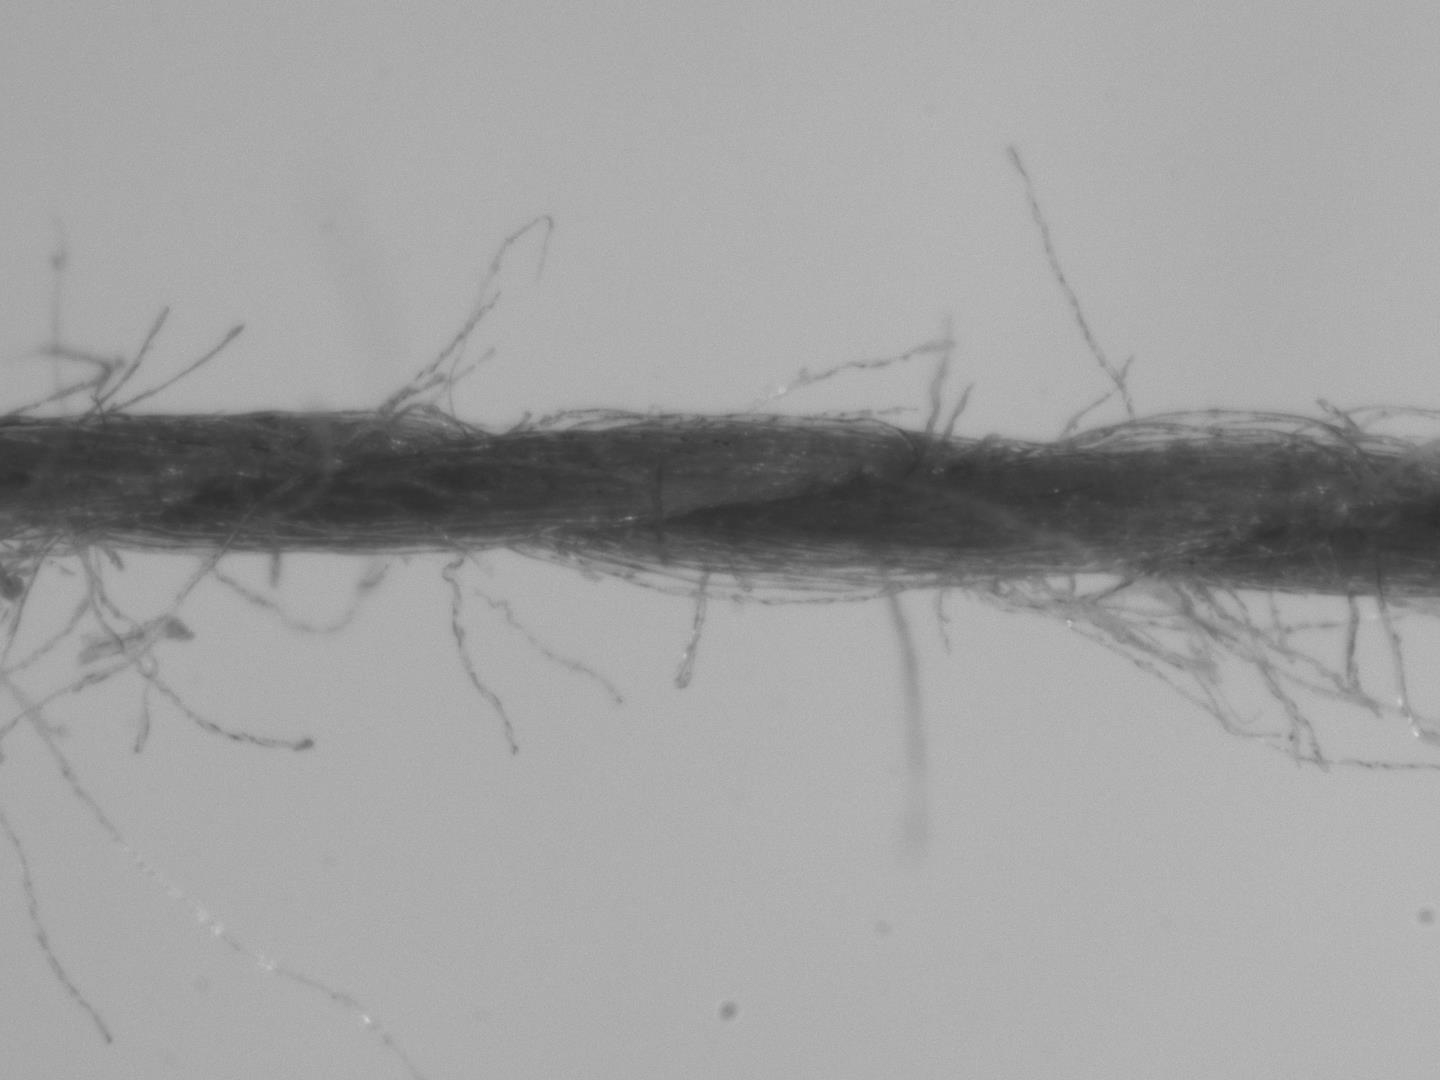loop_fiber: (505, 534, 1009, 608), (1024, 398, 1439, 473), (178, 541, 413, 639), (501, 388, 684, 436)
protruding_fiber: (1, 644, 423, 1079), (67, 528, 340, 770), (996, 134, 1142, 445), (73, 518, 238, 758), (0, 788, 125, 1056), (438, 212, 564, 428), (451, 582, 635, 714), (71, 306, 253, 429), (704, 332, 964, 417), (433, 535, 530, 761), (869, 565, 939, 855), (351, 298, 507, 424), (57, 294, 181, 430), (1, 546, 105, 681), (354, 341, 506, 423), (0, 655, 127, 739), (19, 344, 125, 422), (1048, 368, 1143, 452), (909, 319, 962, 455), (43, 203, 70, 416), (931, 558, 962, 664), (795, 398, 913, 425), (943, 373, 980, 450), (262, 541, 295, 602)
